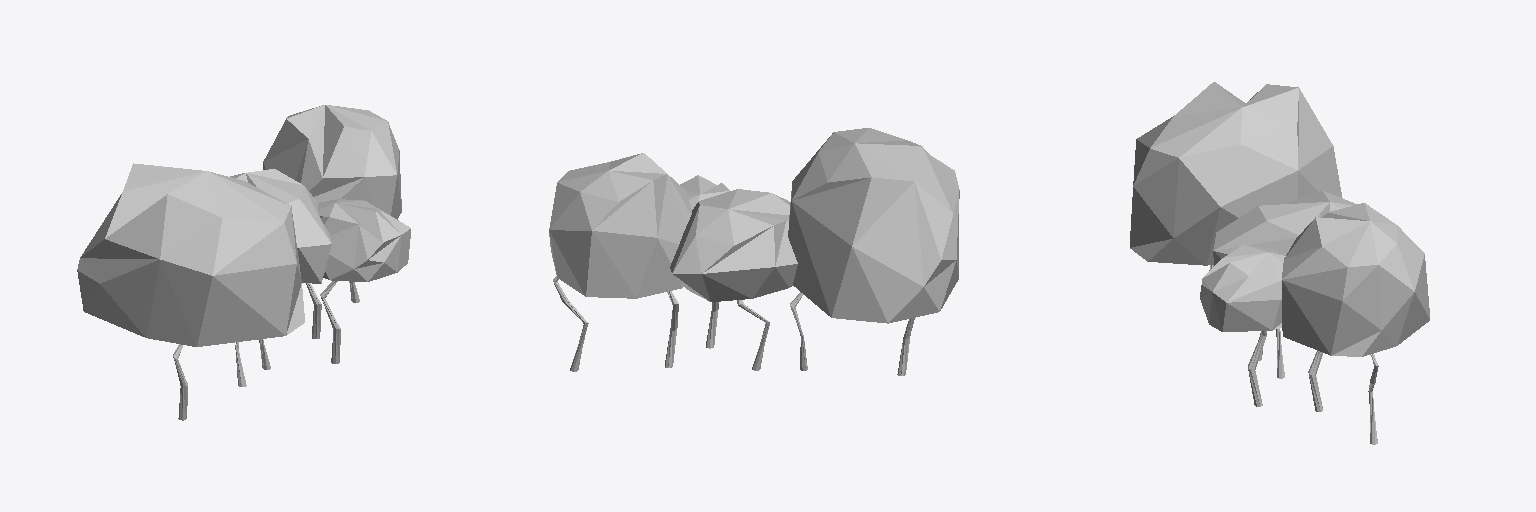
File: bushTrees.obj
The picture shows the model from 3 angles: view 1: azimuth 30°, elevation 25°; view 2: azimuth 150°, elevation 25°; view 3: azimuth 270°, elevation 25°; orthographic projection.
Visible parts, largest first — view 1: bushTress; view 2: bushTress; view 3: bushTress.
Part boxes in pixels (left/top/right/bottom): bushTress: left=77, top=105, right=410, bottom=420; bushTress: left=549, top=128, right=959, bottom=375; bushTress: left=1130, top=82, right=1429, bottom=444.
Size of the model in its own units: 7.46 by 4.71 by 5.57.